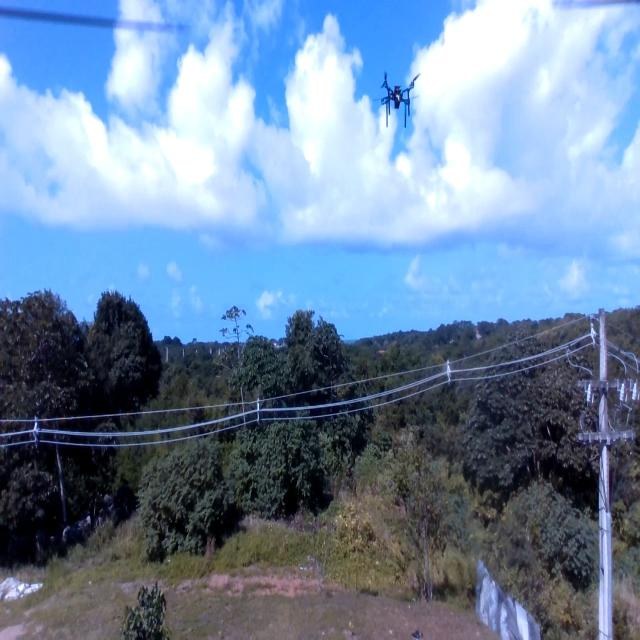-uav-: (368, 64, 426, 135)
